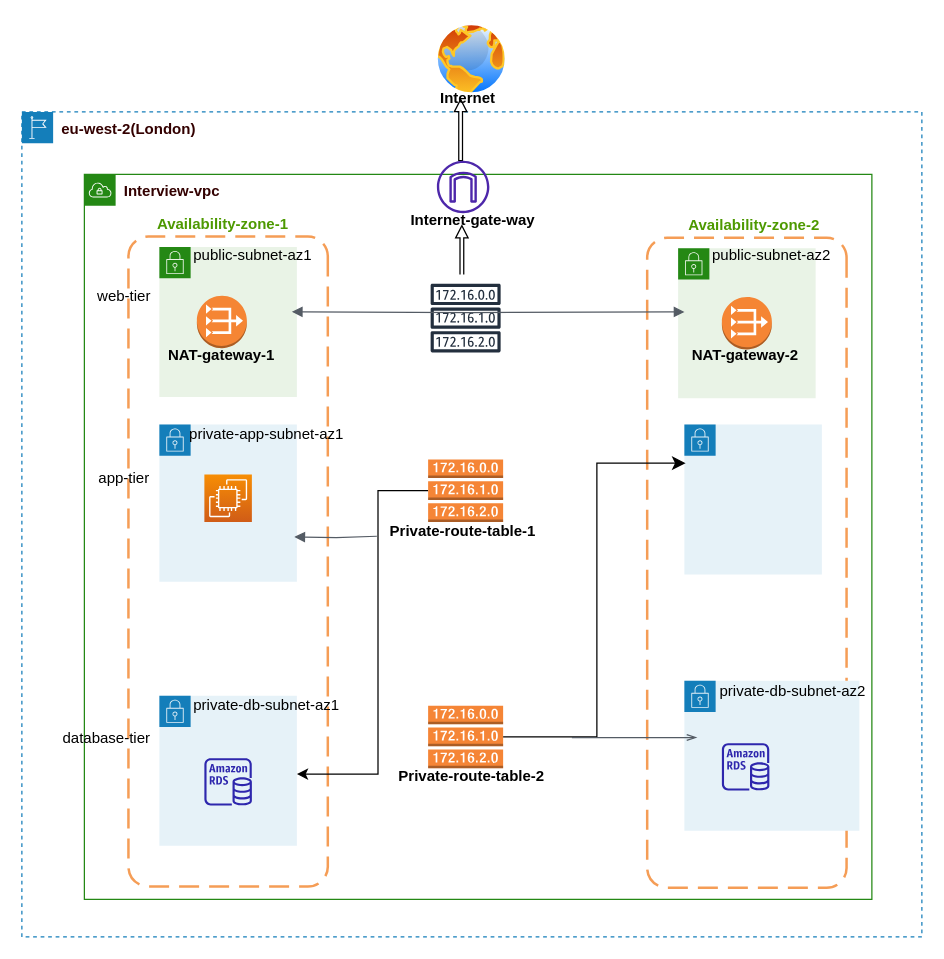
The diagram is 944 pixels wide and 959 high, and some of its shapes have lost their labels. The centre of each missing label's shape, as x and y in pixels:
private-app-subnet-az2: the point at 752,498
Public-route-table: the point at 465,317
